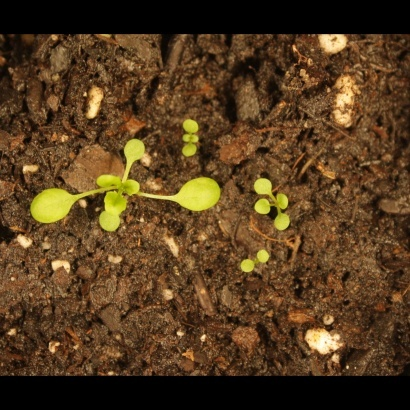leaf: (28, 189, 84, 225), (176, 177, 224, 218), (119, 133, 152, 166), (99, 205, 124, 234), (100, 192, 131, 215), (278, 189, 303, 212), (252, 176, 276, 199), (235, 258, 258, 282), (271, 214, 294, 237), (252, 196, 275, 219), (258, 244, 281, 267), (176, 144, 199, 167), (181, 111, 204, 134), (98, 172, 121, 195), (121, 177, 144, 200)
